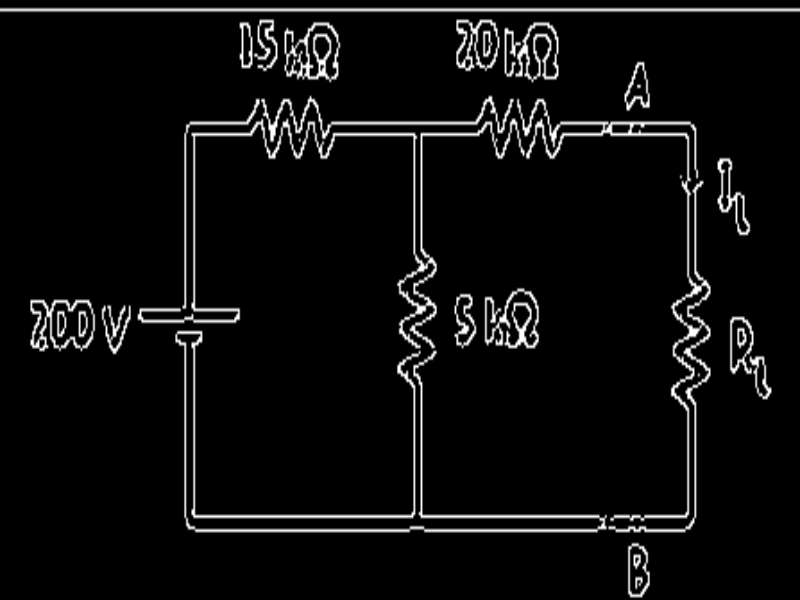0: (473, 17, 501, 72), (47, 292, 72, 351), (71, 296, 96, 352)
1: (237, 19, 255, 73)
2: (455, 18, 477, 73), (28, 296, 49, 352)
5: (453, 291, 477, 350), (255, 18, 278, 71)
A: (622, 59, 652, 113)
V: (100, 302, 134, 355)
k: (483, 293, 507, 352), (503, 25, 526, 82), (282, 26, 305, 81)
